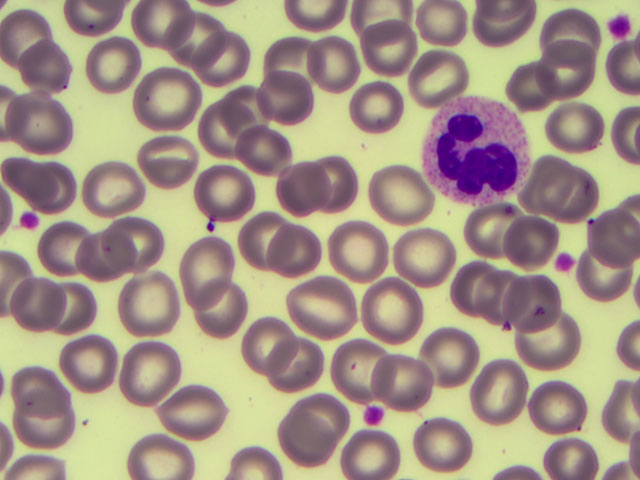Platelets: (604, 10, 632, 40), (551, 249, 580, 277), (359, 404, 390, 426), (20, 212, 41, 230)
RBC: (343, 419, 400, 480), (129, 419, 186, 480), (18, 40, 75, 100), (13, 92, 70, 152), (11, 143, 68, 203), (29, 160, 86, 220), (86, 157, 143, 217), (134, 135, 191, 195), (141, 69, 198, 129), (86, 39, 143, 99), (132, 1, 189, 61), (162, 8, 219, 68), (196, 33, 253, 93), (185, 95, 242, 155), (258, 68, 315, 128), (265, 32, 322, 92), (304, 34, 361, 94), (343, 76, 400, 136), (355, 25, 412, 85), (406, 44, 463, 104), (418, 2, 475, 62), (501, 58, 558, 118), (533, 43, 590, 103), (540, 10, 597, 70), (551, 99, 608, 159), (526, 154, 583, 214), (501, 207, 558, 267), (466, 204, 523, 264), (440, 268, 497, 328), (464, 272, 521, 332), (503, 276, 560, 336), (522, 309, 579, 369), (579, 252, 636, 312), (583, 202, 640, 262), (539, 372, 596, 432), (476, 362, 533, 422), (424, 328, 481, 388), (363, 281, 420, 341), (398, 222, 455, 282), (373, 161, 430, 221), (333, 219, 390, 279), (320, 154, 377, 214), (289, 157, 346, 217), (244, 126, 301, 186), (189, 169, 246, 229), (230, 209, 287, 269), (265, 224, 322, 284), (302, 282, 359, 342), (328, 339, 385, 399), (370, 356, 427, 416), (415, 413, 472, 473), (279, 401, 336, 461), (295, 389, 352, 449), (280, 329, 337, 389), (247, 310, 304, 370), (293, 278, 350, 338), (202, 283, 259, 343), (186, 227, 243, 287), (119, 273, 176, 333), (116, 214, 173, 274), (87, 232, 144, 292), (48, 224, 105, 284), (47, 279, 104, 339), (11, 274, 68, 334), (58, 334, 115, 394), (127, 346, 184, 406), (163, 387, 220, 447), (21, 397, 78, 457), (8, 355, 65, 415), (1, 1, 56, 60), (536, 433, 598, 480), (216, 84, 274, 128)
WBC: (418, 100, 533, 205)
